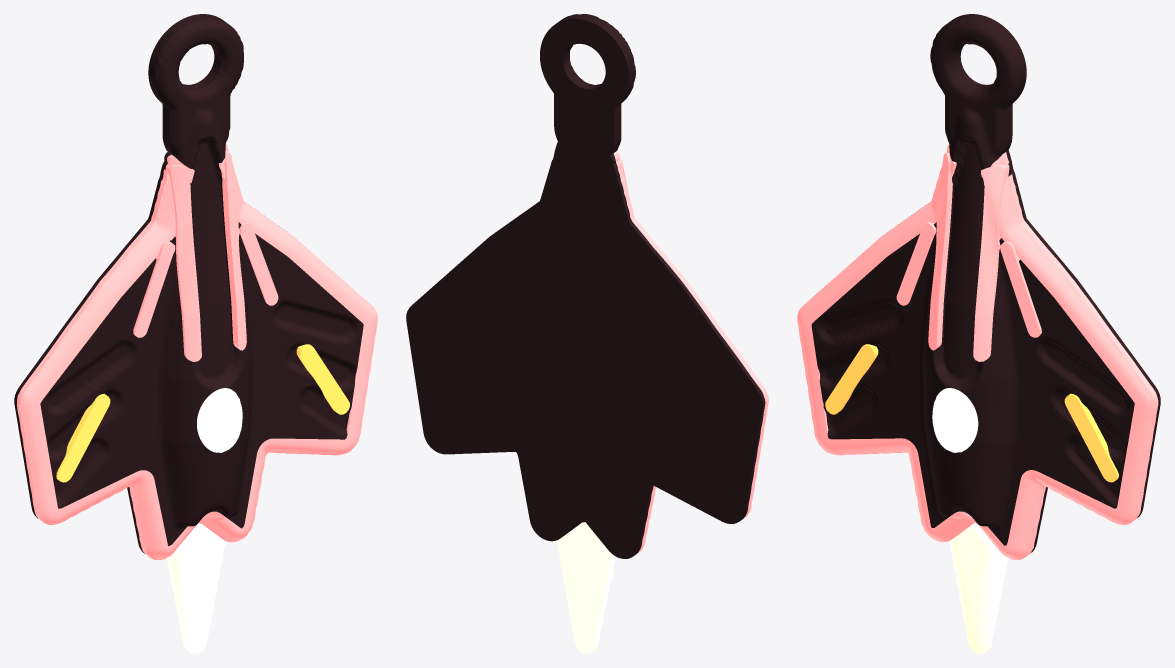
The model's file is ember-keychain.glb.
3 renders of one model, left to right at view 1: azimuth 30°, elevation 25°; view 2: azimuth 150°, elevation 25°; view 3: azimuth 330°, elevation 25°, orthographic.
Parts seen in each view (by area): view 1: hull, neon, flame, hot, canopy; view 2: hull, flame, neon; view 3: hull, neon, flame, hot, canopy.
Boxes of the visible parts, x1,y1,x2,y2 form: hull: (14,14,363,553); neon: (17,142,377,559); flame: (166,523,225,653); hot: (56,344,349,482); canopy: (197,388,242,452); hull: (406,14,765,558); flame: (557,522,615,653); neon: (613,151,768,553); hull: (811,14,1160,552); neon: (797,145,1158,559); flame: (949,523,1008,653); hot: (825,344,1118,482); canopy: (932,388,978,452).
Bounding box in the file's own units: 0.0352 × 0.0598 × 0.00628.
